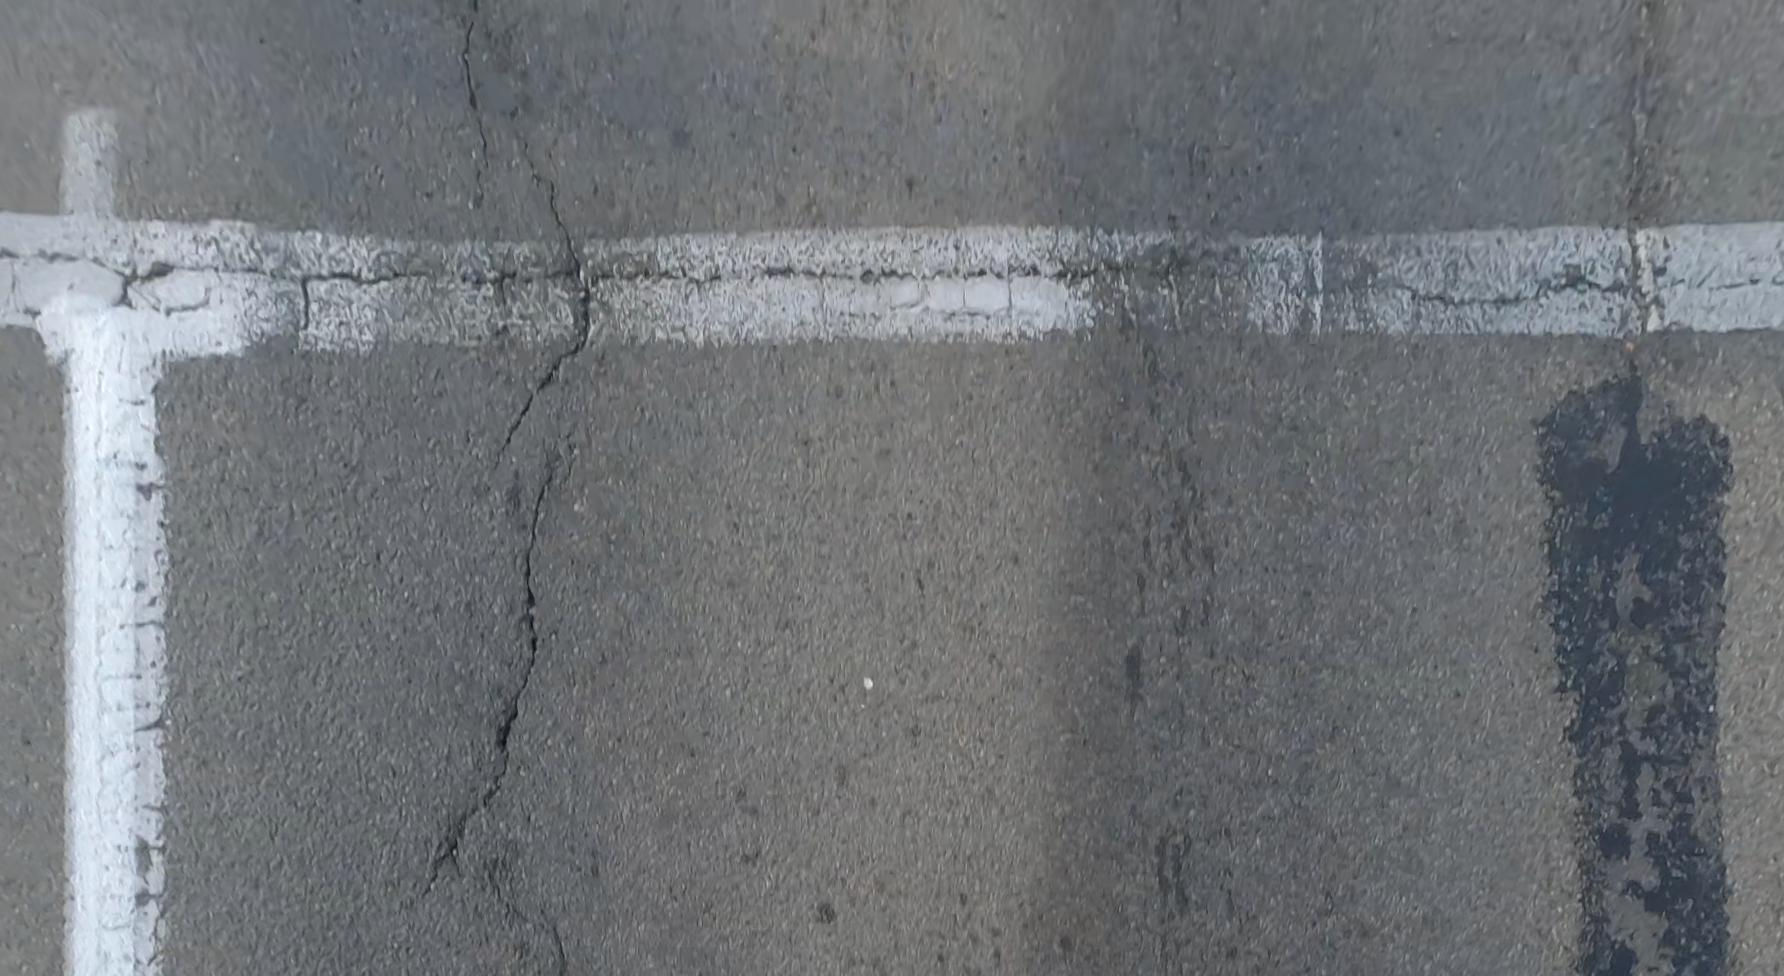pothole_patch_good: (1526, 369, 1749, 974)
